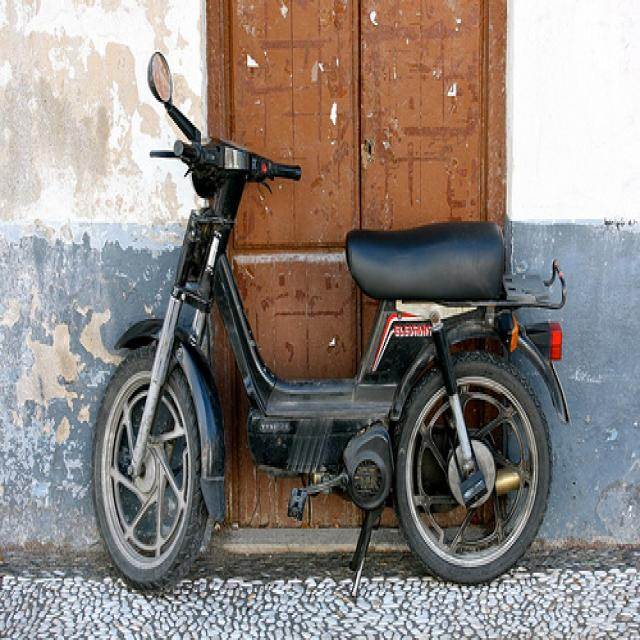motor: (92, 52, 578, 595)
